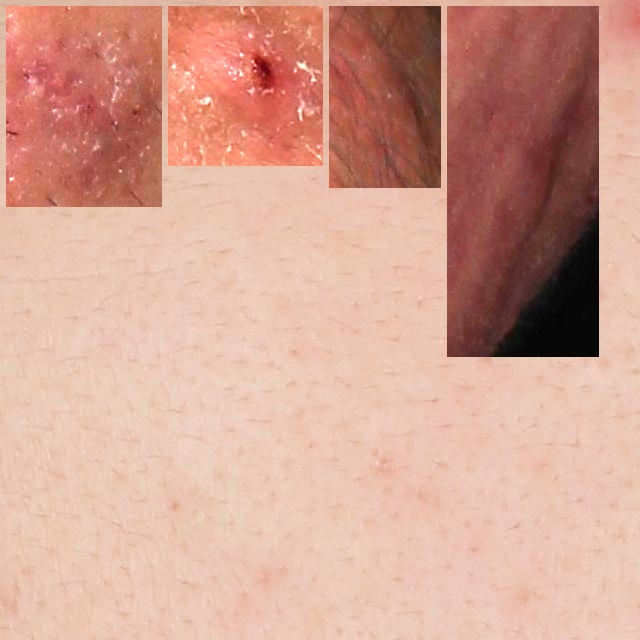nodule: (455, 14, 591, 349), (14, 14, 154, 199), (176, 14, 315, 158), (337, 14, 433, 180)
